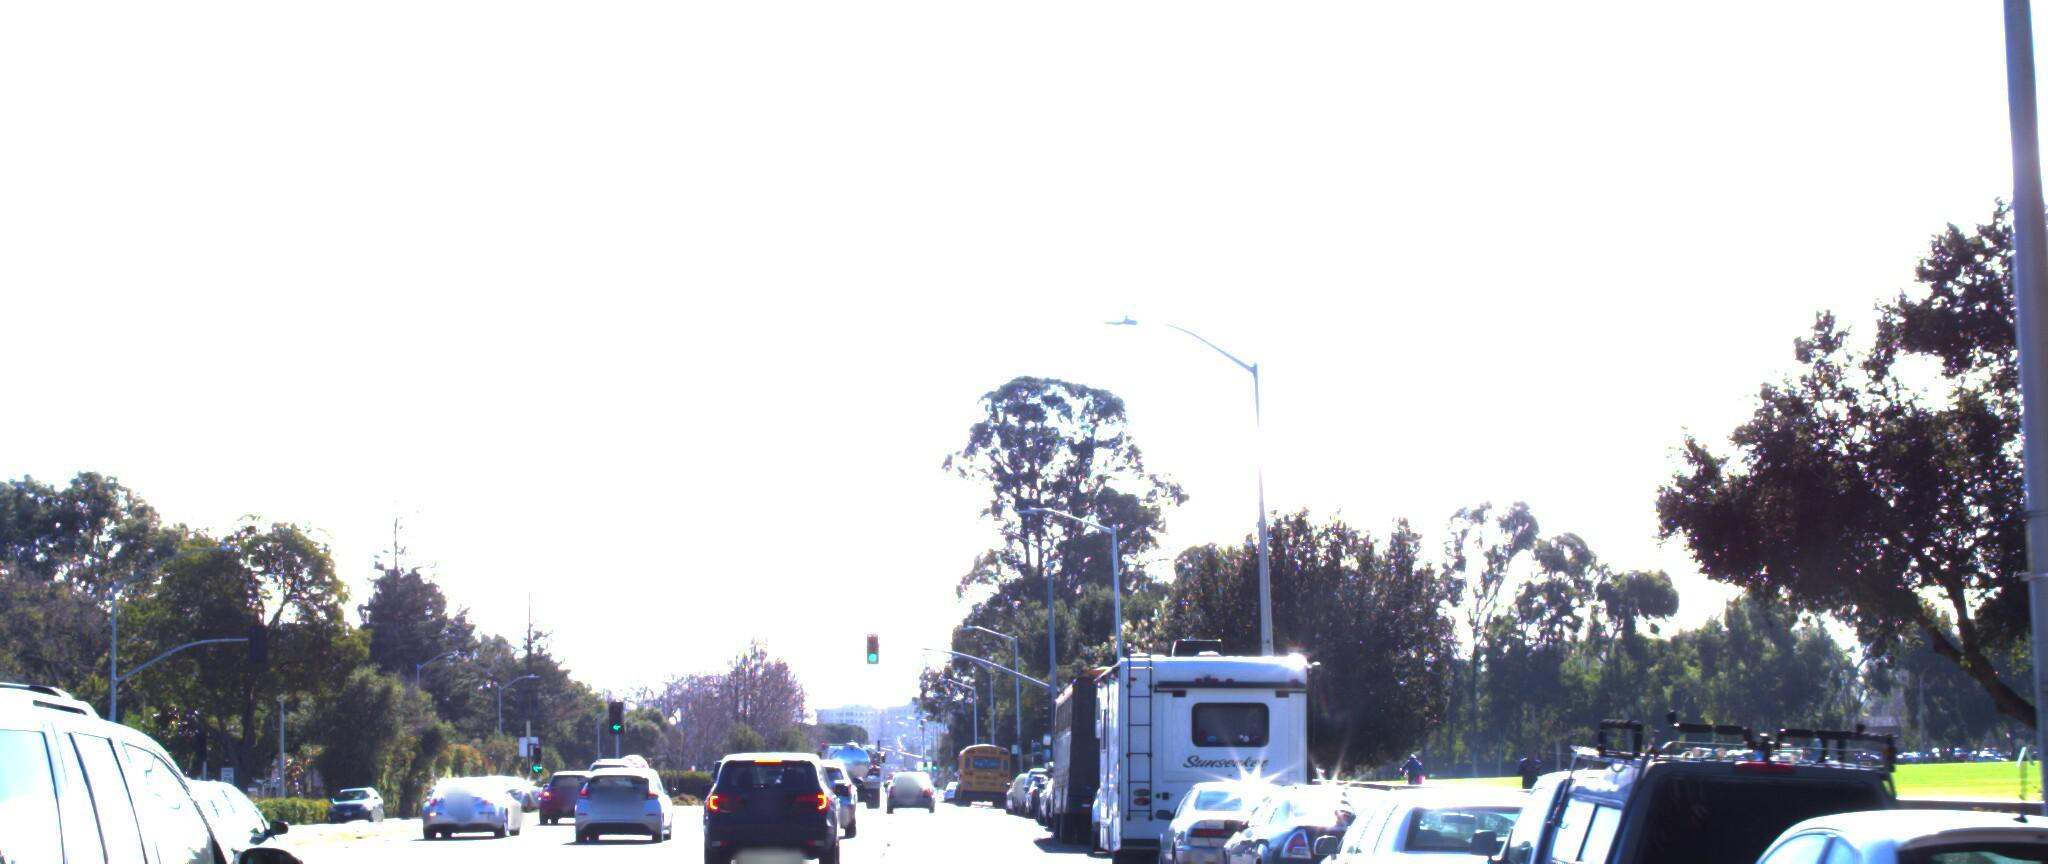bus: (1053, 649, 1215, 844)
car: (0, 608, 364, 864), (1424, 698, 1983, 864), (1614, 786, 2048, 864), (1294, 780, 1680, 864), (1208, 782, 1471, 864), (683, 739, 852, 864), (1152, 778, 1337, 864), (1775, 820, 2048, 864), (573, 764, 684, 842), (426, 758, 537, 835)
other_vehicle: (1092, 626, 1334, 864)
